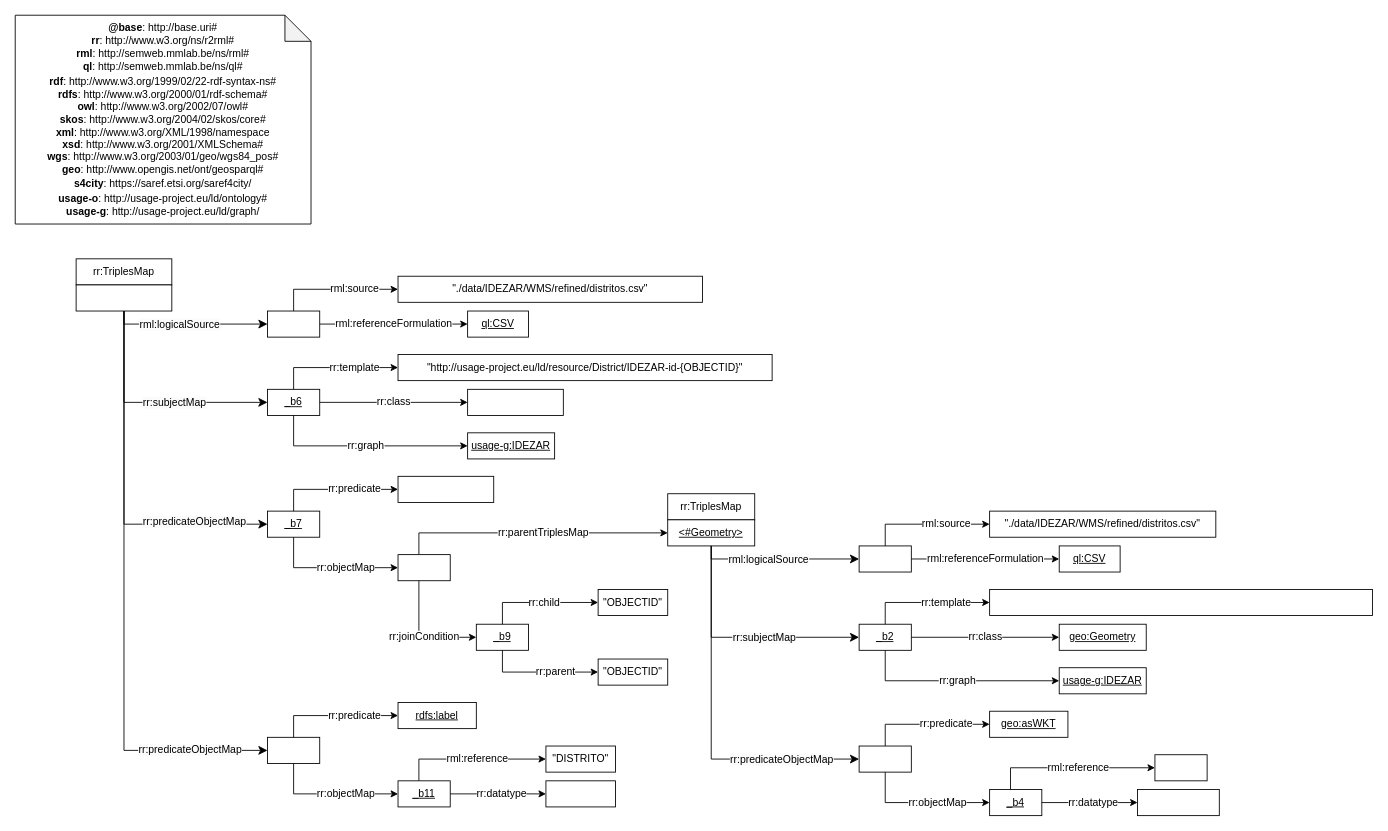
The diagram is 1388 pixels wide and 831 high, and some of its shapes have lost their labels. The centre of each missing label's shape, as x and y in pixels:
"asWKT": [1180,767]
"http://usage-project.eu/ld/resource/Geometry/District/IDEZAR-id-{OBJECTID}": [1180,602]
<#Neighbourhood>: [123,297]
_b1: [884,558]
_b10: [293,749]
_b3: [884,758]
_b5: [293,323]
_b8: [423,567]
geo:hasGeometry: [445,488]
geo:wktLiteral: [1178,802]
s4city:District: [515,401]
xsd:string: [580,793]
